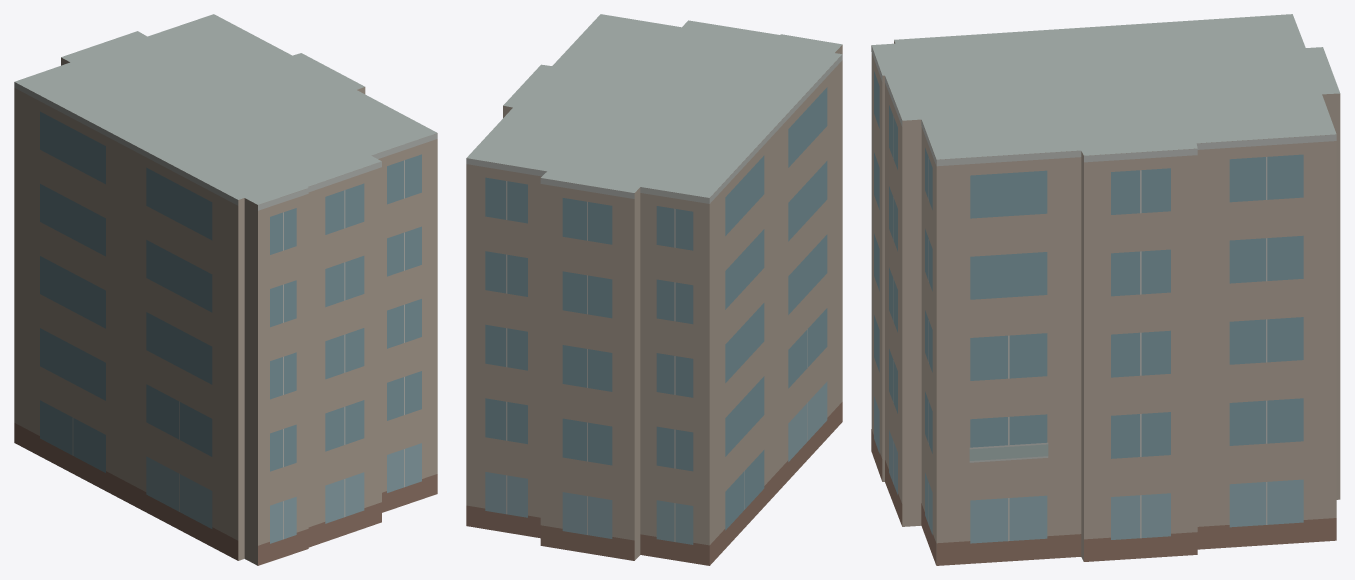
File: survey-upis-32837530.glb
The picture shows the model from 3 angles, left to right: view 1: azimuth 30°, elevation 25°; view 2: azimuth 150°, elevation 25°; view 3: azimuth 270°, elevation 25°; orthographic projection. The views are drawn at different scales.
Visible parts, largest first — view 1: survey-upis-32837530.tmp; view 2: survey-upis-32837530.tmp; view 3: survey-upis-32837530.tmp.
Boxes of the visible parts, box(x1,y1,x2,y2) form: survey-upis-32837530.tmp: box(14, 14, 437, 565); survey-upis-32837530.tmp: box(466, 14, 842, 565); survey-upis-32837530.tmp: box(871, 14, 1340, 565).
Size of the model in its own units: 11.55 by 15.01 by 15.71.
